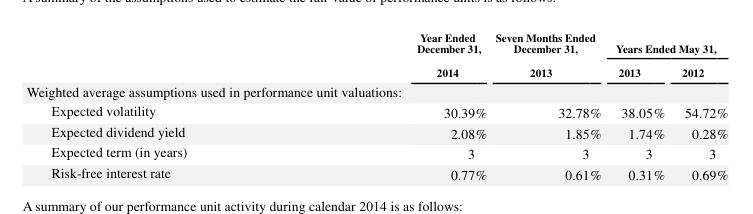table: (25, 28, 727, 182)
table column: (25, 28, 301, 182), (301, 28, 490, 182), (490, 28, 607, 182), (607, 28, 672, 182), (672, 28, 727, 182)
table column header: (25, 28, 727, 81)
table projected row header: (25, 81, 727, 100)
table row: (25, 28, 727, 60), (25, 60, 727, 81), (25, 100, 727, 121), (25, 141, 727, 162), (25, 121, 727, 141), (25, 162, 727, 182), (25, 81, 727, 100)
table spanning cell: (301, 28, 490, 81), (490, 28, 607, 81), (607, 28, 727, 60)
